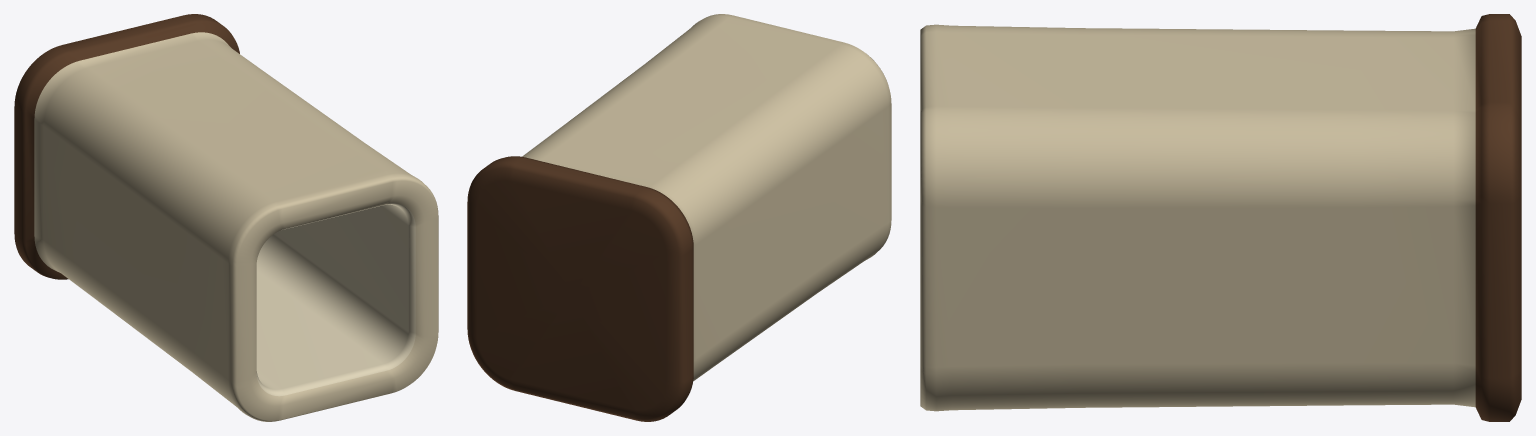
File: holder.obj
3 renders of one model, left to right at view 1: azimuth 30°, elevation 25°; view 2: azimuth 150°, elevation 25°; view 3: azimuth 270°, elevation 25°, orthographic. The views are drawn at different scales.
Parts seen in each view (by area): view 1: GlazedIvory, InteriorGlaze, WarmStoneFoot; view 2: GlazedIvory, WarmStoneFoot; view 3: GlazedIvory, WarmStoneFoot.
Part boxes in pixels (box(x1,y1,x2,y2)): GlazedIvory: box(34, 32, 438, 421); InteriorGlaze: box(256, 203, 415, 396); WarmStoneFoot: box(14, 14, 239, 279); GlazedIvory: box(522, 14, 891, 380); WarmStoneFoot: box(467, 156, 693, 421); GlazedIvory: box(920, 24, 1475, 411); WarmStoneFoot: box(1475, 14, 1521, 421).
Bounding box in the file's own units: 0.086 × 0.086 × 0.15.
